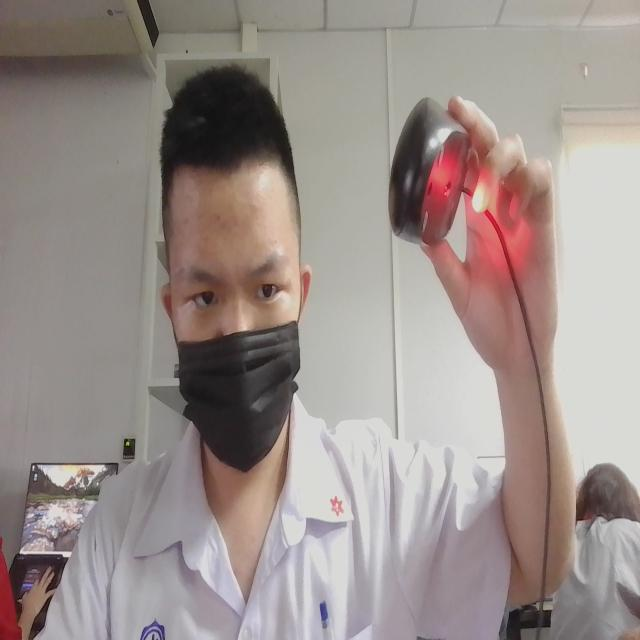mouse: (370, 82, 490, 284)
